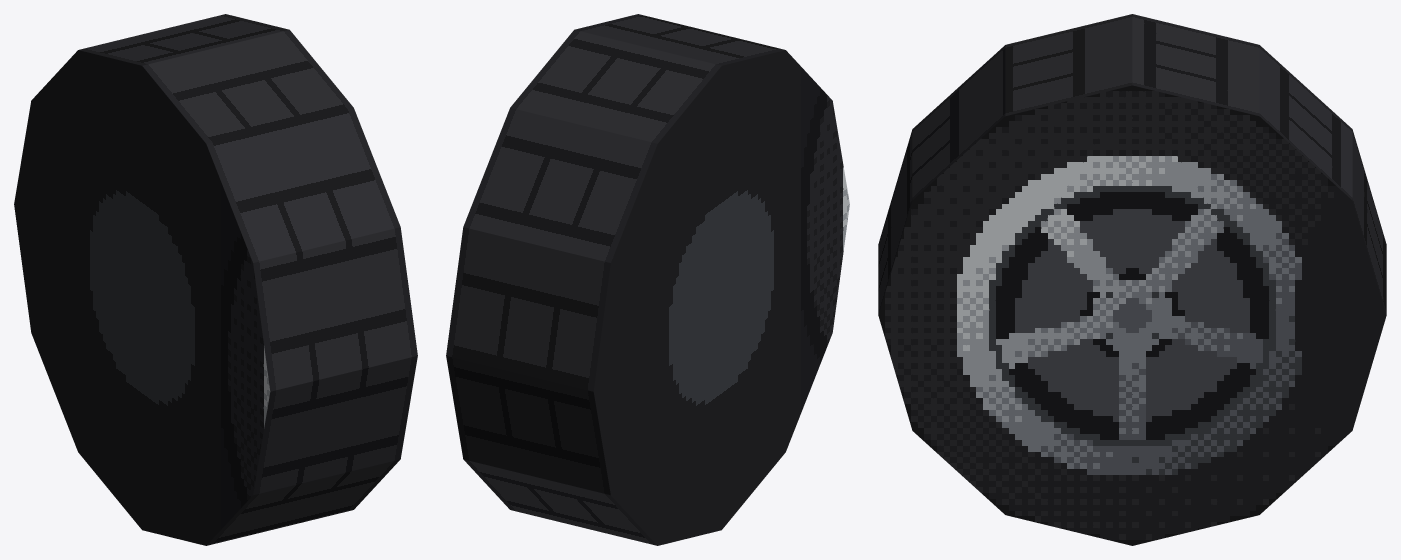
The model's file is wheel_dish.glb.
3 views of the same model, side by side, from view 1: azimuth 30°, elevation 25°; view 2: azimuth 150°, elevation 25°; view 3: azimuth 270°, elevation 25° (orthographic).
Parts seen in each view (by area): view 1: wheel_dish; view 2: wheel_dish; view 3: wheel_dish.
Part boxes in pixels (bbox=[...]): wheel_dish: bbox=[14, 14, 417, 545]; wheel_dish: bbox=[446, 14, 849, 545]; wheel_dish: bbox=[878, 14, 1386, 545].
Size of the model in its own units: 0.205 by 0.6163 by 0.6163.
Materials: 1 (1 with a texture image).
